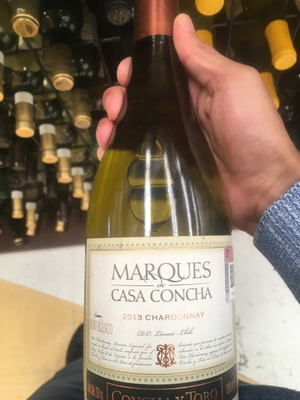marques de casa concha chardonnay: (88, 13, 259, 394)
